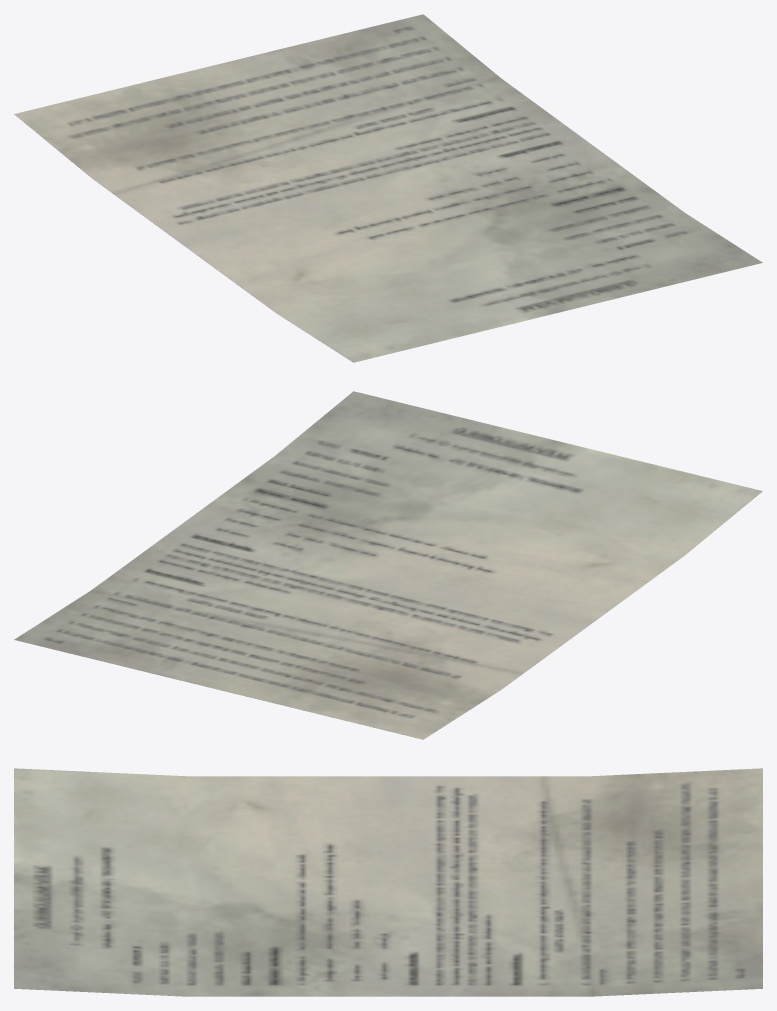
The model's file is Paper_S.obj.
3 renders of one model, top to bottom at view 1: azimuth 30°, elevation 25°; view 2: azimuth 150°, elevation 25°; view 3: azimuth 270°, elevation 25°, orthographic. The views are drawn at different scales.
Visible parts, largest first — view 1: Paper_S; view 2: Paper_S; view 3: Paper_S.
Boxes of the visible parts, x1,y1,x2,y2 form: Paper_S: (14,14,762,362); Paper_S: (14,391,762,739); Paper_S: (14,768,762,996).
Bounding box in the file's own units: 12.35 × 0.2083 × 17.75.
